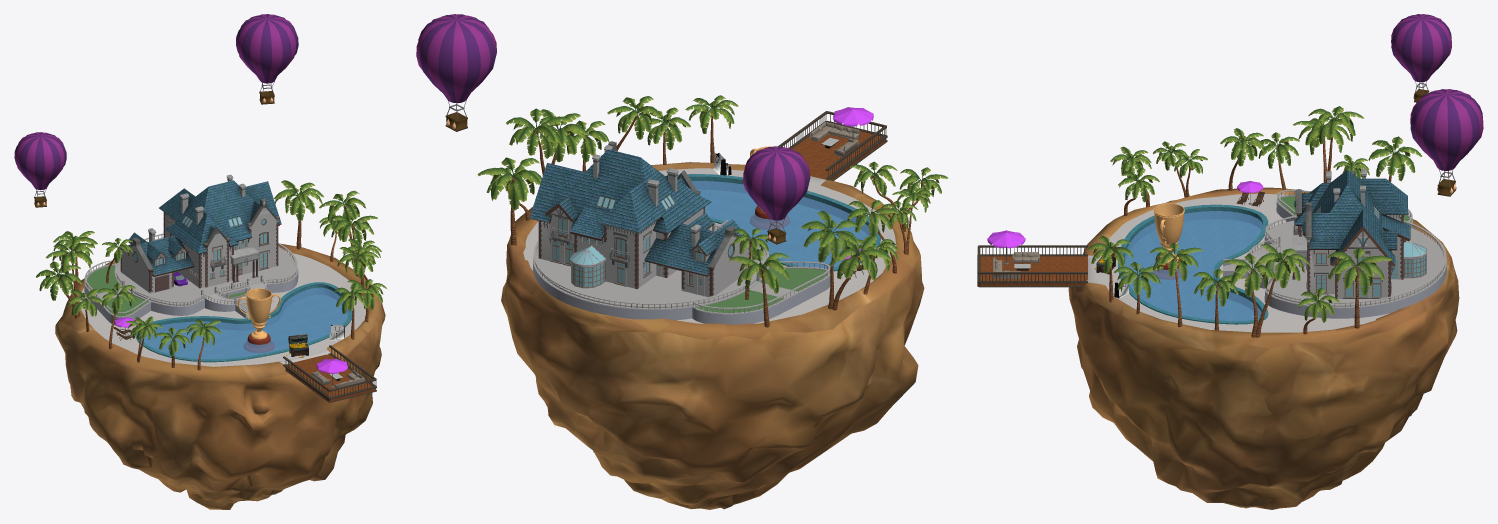
Rendered from Island2-comp.glb.
The picture shows the model from 3 angles, left to right: view 1: azimuth 30°, elevation 25°; view 2: azimuth 150°, elevation 25°; view 3: azimuth 270°, elevation 25°; orthographic projection. The views are drawn at different scales.
Parts seen in each view (by area): view 1: Land, trees, Main_House, Pool, Balcony; view 2: Land, trees, Main_House, Pool, Balcony, sofa; view 3: Land, trees, Pool, Main_House, Balcony, sofa.
Part boxes in pixels (<box>): Land: <box>14,14,385,509</box>; trees: <box>36,180,386,370</box>; Main_House: <box>119,174,281,292</box>; Pool: <box>135,281,352,362</box>; Balcony: <box>283,345,376,402</box>; Land: <box>416,14,924,509</box>; trees: <box>477,95,947,327</box>; Main_House: <box>529,141,751,288</box>; Pool: <box>665,174,880,271</box>; Balcony: <box>778,111,887,180</box>; sofa: <box>810,122,859,156</box>; Land: <box>987,14,1483,509</box>; trees: <box>1087,106,1422,337</box>; Pool: <box>1118,204,1268,324</box>; Main_House: <box>1292,168,1427,298</box>; Balcony: <box>977,245,1087,287</box>; sofa: <box>993,252,1039,278</box>.
Size of the model in its own units: 44.57 by 53.78 by 52.77.
12 materials, 12 textured.
